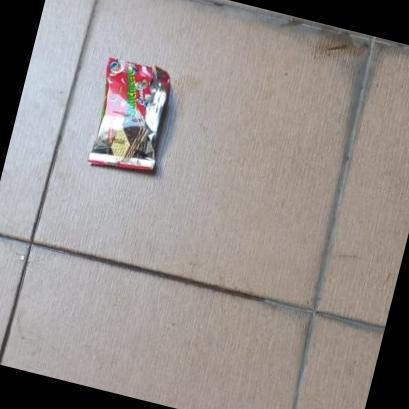Plastik: (82, 55, 178, 180)
